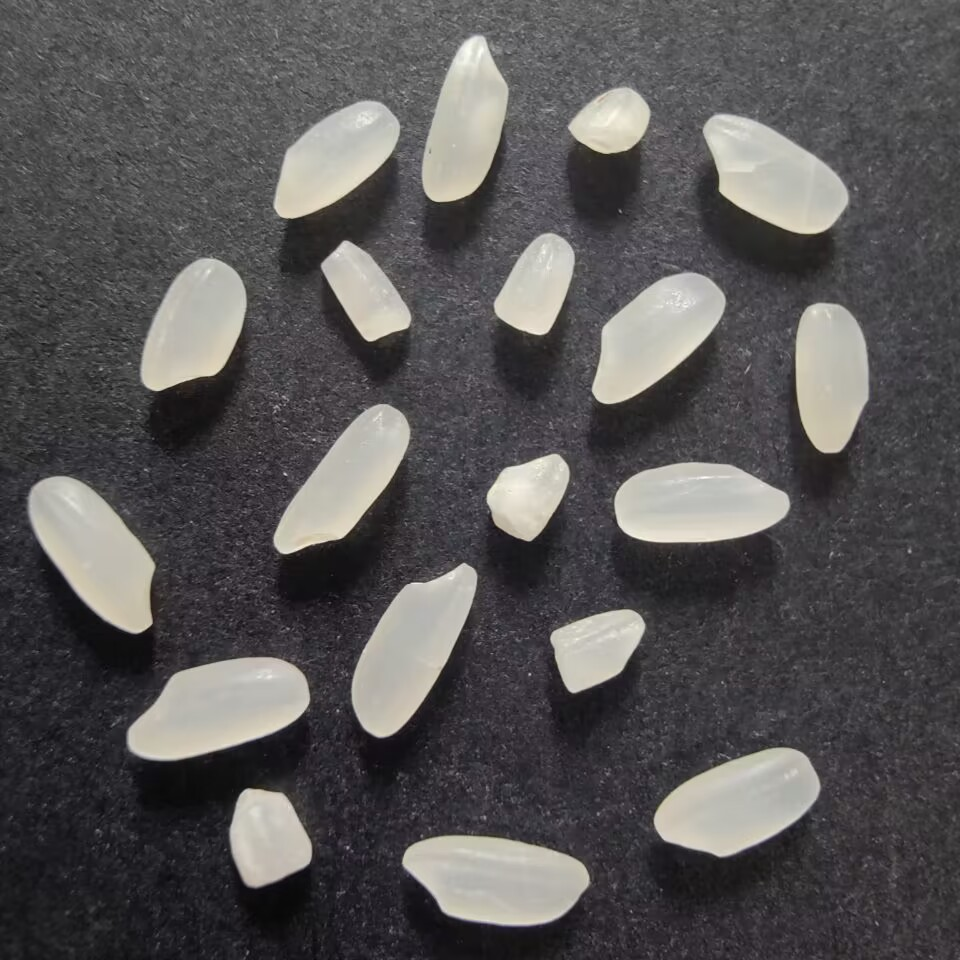broken: (222, 781, 317, 895), (315, 237, 415, 345), (487, 228, 577, 342), (542, 606, 648, 697), (483, 450, 573, 545), (560, 76, 658, 159)
rice: (344, 555, 481, 743), (267, 399, 415, 558), (21, 469, 158, 636), (694, 104, 859, 238), (123, 654, 319, 765), (647, 744, 828, 863), (585, 266, 732, 408), (394, 833, 598, 931), (413, 27, 515, 207), (607, 454, 797, 549), (131, 249, 252, 398), (265, 97, 403, 222), (786, 295, 874, 458)
